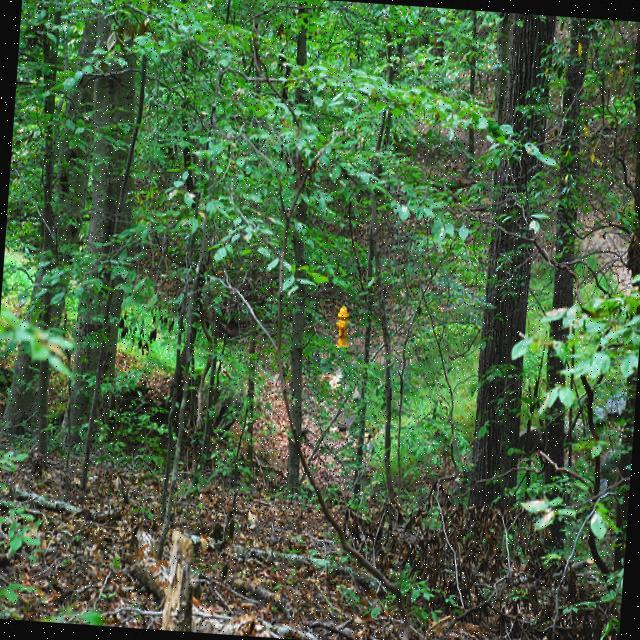fire_hydrant: (333, 302, 351, 348)
